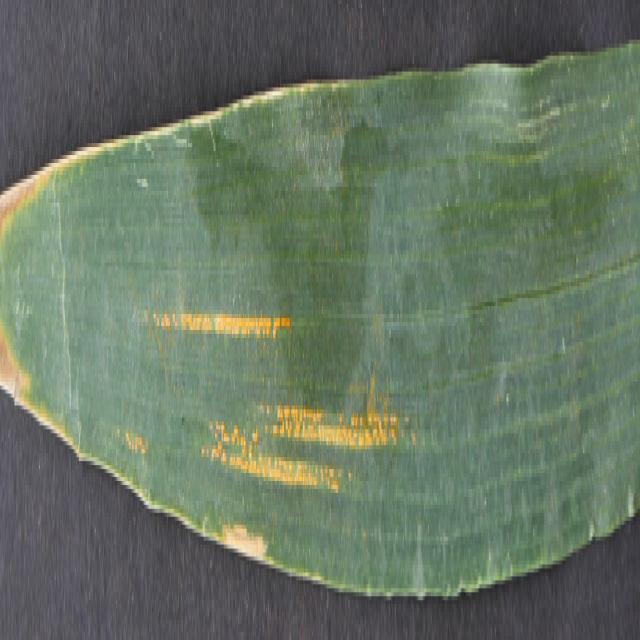leaf rust: (127, 230, 420, 512)
